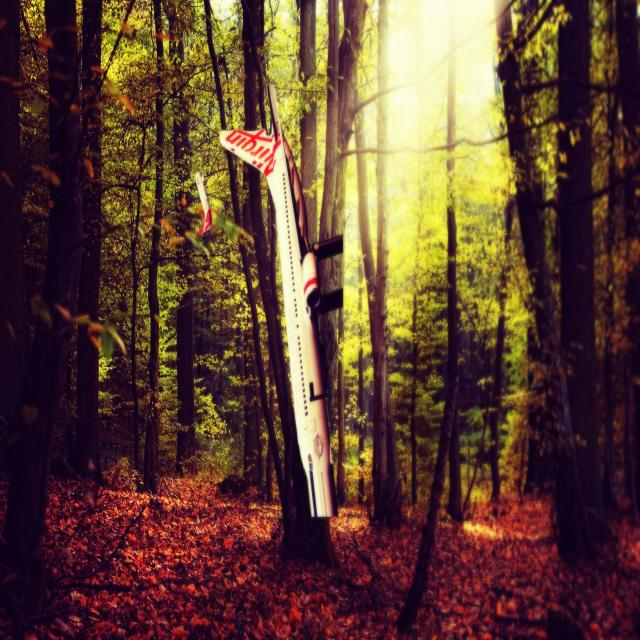airplane: (217, 80, 344, 519)
